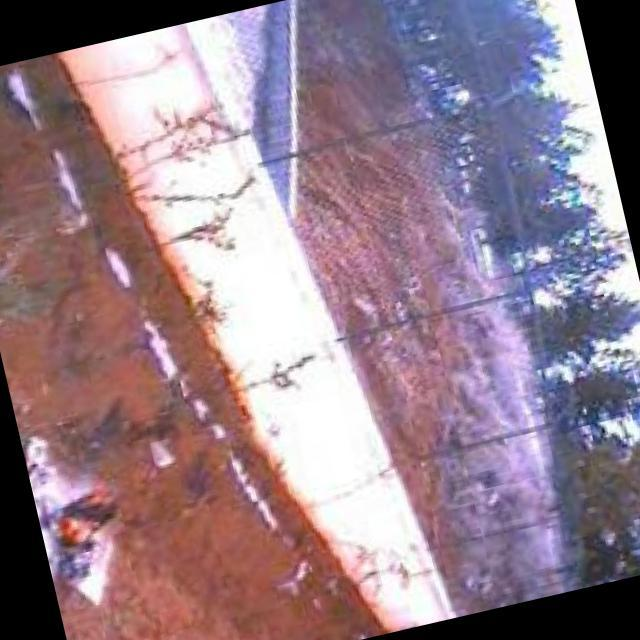Fire: (46, 475, 135, 573)
